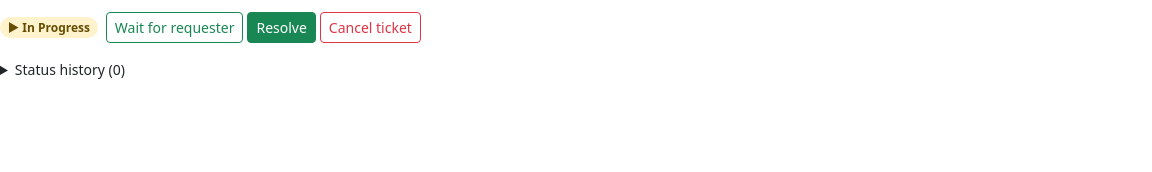
TicketWorkflowControl › reloads the Ticket on a stale update
Expected: the heading "Status history (0)" is shown, [15,60,125,79]
Click the button "Resolve" at {"x": 282, "y": 28}, box [247,12,316,43]
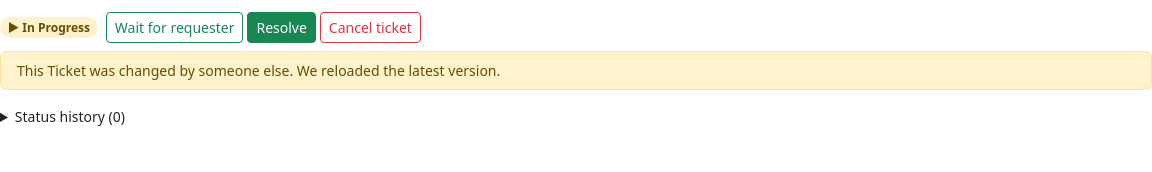
Expected: the message shows "changed by someone else", [17,61,500,80]
